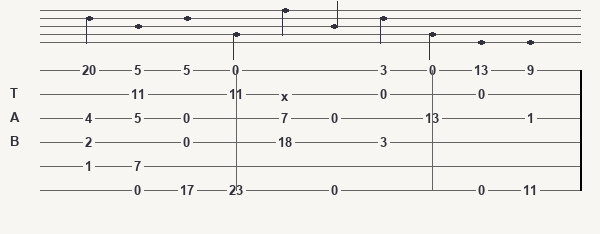0: (134, 183, 145, 197), (183, 135, 194, 149), (183, 111, 194, 125), (232, 63, 243, 77), (331, 111, 342, 125), (331, 183, 342, 197), (380, 87, 391, 101), (429, 63, 440, 77), (478, 183, 489, 197), (478, 87, 489, 101)
1: (85, 159, 96, 173), (527, 111, 538, 125)
11: (131, 87, 149, 101), (229, 87, 247, 101), (523, 183, 541, 197)
13: (425, 111, 443, 125), (474, 63, 492, 77)
17: (180, 183, 198, 197)
18: (278, 135, 296, 149)
2: (85, 135, 96, 149)
20: (82, 63, 100, 77)
23: (229, 183, 247, 197)
3: (380, 63, 391, 77), (380, 135, 391, 149)
4: (85, 111, 96, 125)
5: (134, 111, 145, 125), (134, 63, 145, 77), (183, 63, 194, 77)
7: (134, 159, 145, 173), (281, 111, 292, 125)
9: (527, 63, 538, 77)
x: (281, 89, 293, 100)
